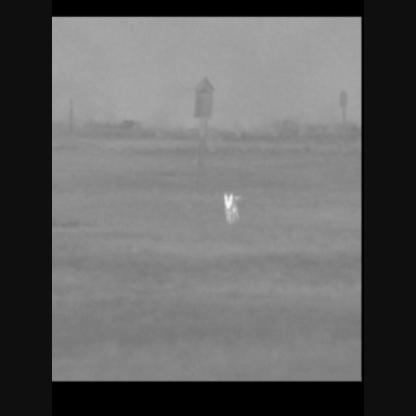rehkitze: (220, 189, 242, 222)
